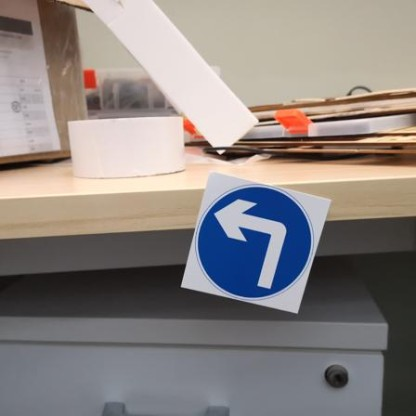left: (188, 163, 330, 313)
